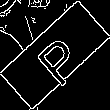P_NW: (26, 24, 84, 86)
